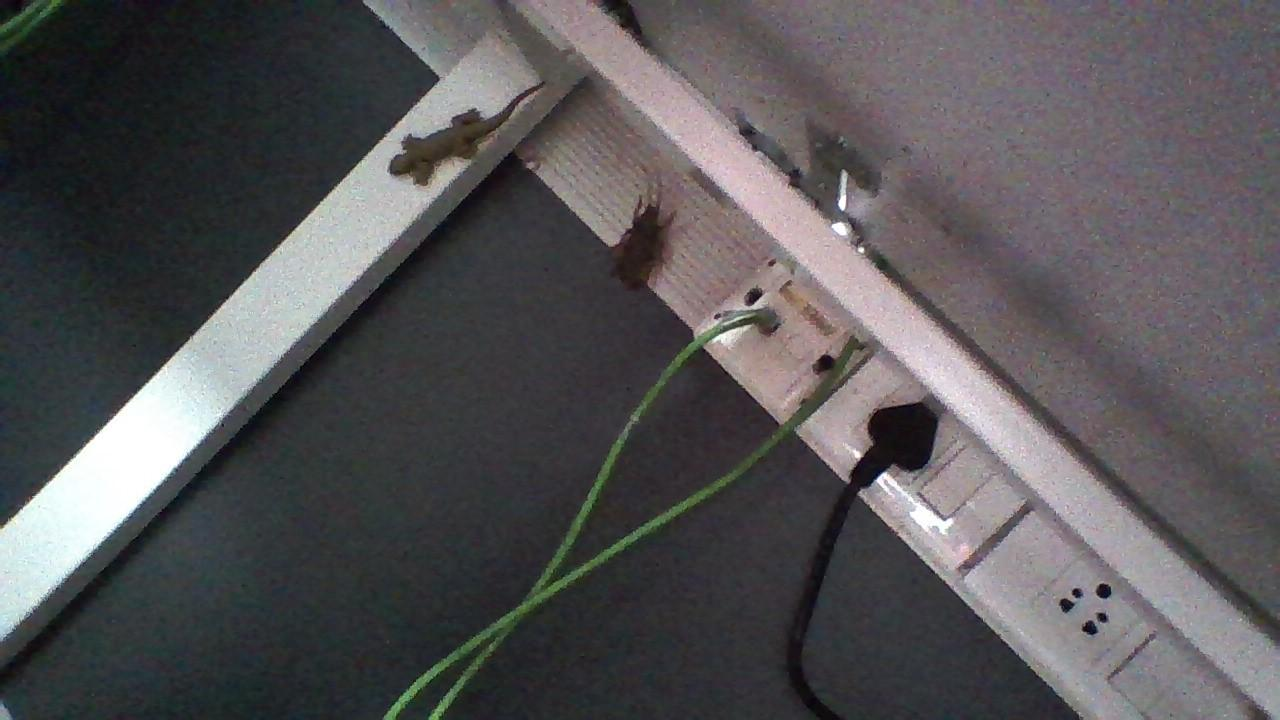cockroach: (603, 166, 688, 300)
lizard: (382, 69, 548, 196)
